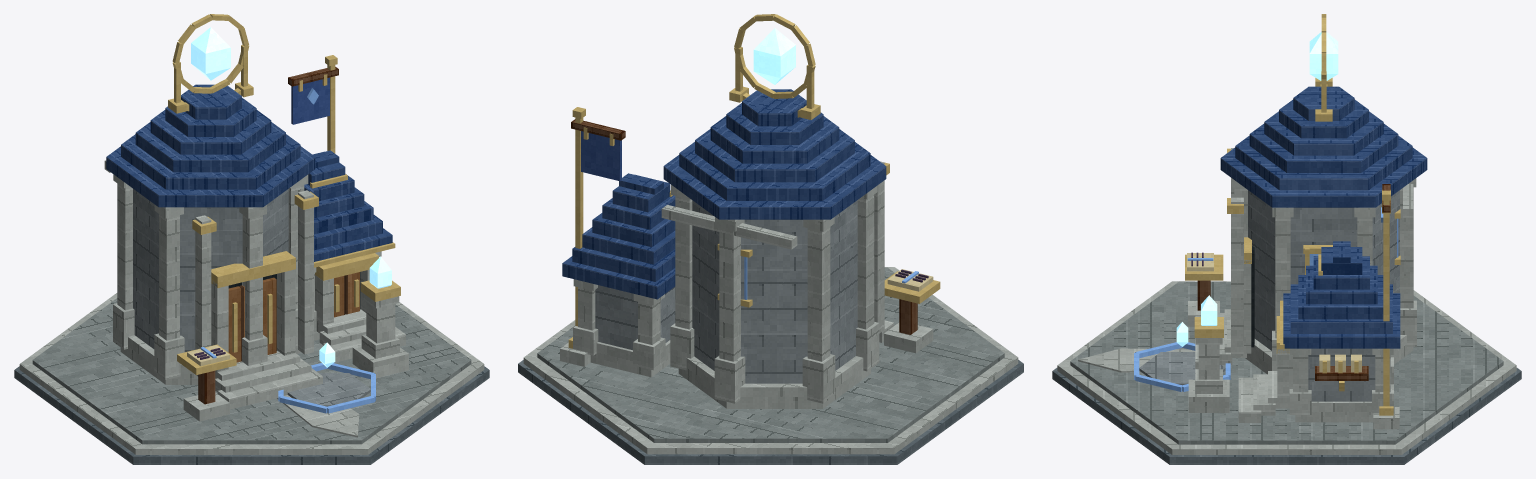
File: arcane_conclave_hex_v1.glb
3 renders of one model, left to right at view 1: azimuth 30°, elevation 25°; view 2: azimuth 150°, elevation 25°; view 3: azimuth 270°, elevation 25°, orthographic. The views are drawn at different scales.
Visible parts, largest first — view 1: Arcane_Conclave_Hex_V1_Foundation, Arcane_Conclave_Hex_V1_Hall, Arcane_Conclave_Hex_V1_Roofs, Arcane_Conclave_Hex_V1_Focus, Arcane_Conclave_Hex_V1_Courtyard, Arcane_Conclave_Hex_V1_Details, Arcane_Conclave_Hex_V1_Training, Arcane_Conclave_Hex_V1_Faction; view 2: Arcane_Conclave_Hex_V1_Hall, Arcane_Conclave_Hex_V1_Foundation, Arcane_Conclave_Hex_V1_Roofs, Arcane_Conclave_Hex_V1_Focus, Arcane_Conclave_Hex_V1_Faction, Arcane_Conclave_Hex_V1_Details, Arcane_Conclave_Hex_V1_Training; view 3: Arcane_Conclave_Hex_V1_Foundation, Arcane_Conclave_Hex_V1_Roofs, Arcane_Conclave_Hex_V1_Hall, Arcane_Conclave_Hex_V1_Training, Arcane_Conclave_Hex_V1_Focus, Arcane_Conclave_Hex_V1_Courtyard, Arcane_Conclave_Hex_V1_Details, Arcane_Conclave_Hex_V1_Faction.
Part boxes in pixels (box(x1,y1,x2,y2)): Arcane_Conclave_Hex_V1_Foundation: box(14, 293, 489, 464); Arcane_Conclave_Hex_V1_Hall: box(113, 174, 381, 384); Arcane_Conclave_Hex_V1_Roofs: box(106, 84, 395, 267); Arcane_Conclave_Hex_V1_Focus: box(168, 14, 408, 378); Arcane_Conclave_Hex_V1_Courtyard: box(215, 309, 405, 437); Arcane_Conclave_Hex_V1_Details: box(104, 160, 359, 376); Arcane_Conclave_Hex_V1_Training: box(177, 342, 375, 421); Arcane_Conclave_Hex_V1_Faction: box(288, 55, 338, 153); Arcane_Conclave_Hex_V1_Hall: box(573, 185, 879, 408); Arcane_Conclave_Hex_V1_Foundation: box(518, 267, 1023, 464); Arcane_Conclave_Hex_V1_Roofs: box(562, 89, 886, 299); Arcane_Conclave_Hex_V1_Focus: box(729, 14, 820, 119); Arcane_Conclave_Hex_V1_Faction: box(560, 107, 625, 366); Arcane_Conclave_Hex_V1_Details: box(661, 161, 889, 333); Arcane_Conclave_Hex_V1_Training: box(884, 269, 940, 353); Arcane_Conclave_Hex_V1_Foundation: box(1052, 281, 1521, 464); Arcane_Conclave_Hex_V1_Roofs: box(1220, 86, 1427, 349); Arcane_Conclave_Hex_V1_Hall: box(1231, 178, 1416, 422); Arcane_Conclave_Hex_V1_Training: box(1134, 252, 1368, 391); Arcane_Conclave_Hex_V1_Focus: box(1188, 14, 1338, 412); Arcane_Conclave_Hex_V1_Courtyard: box(1078, 309, 1289, 422); Arcane_Conclave_Hex_V1_Details: box(1227, 148, 1413, 357); Arcane_Conclave_Hex_V1_Faction: box(1373, 184, 1399, 429).
Bounding box in the file's own units: 1.59 × 1.52 × 1.84.
1 material, 1 textured.
